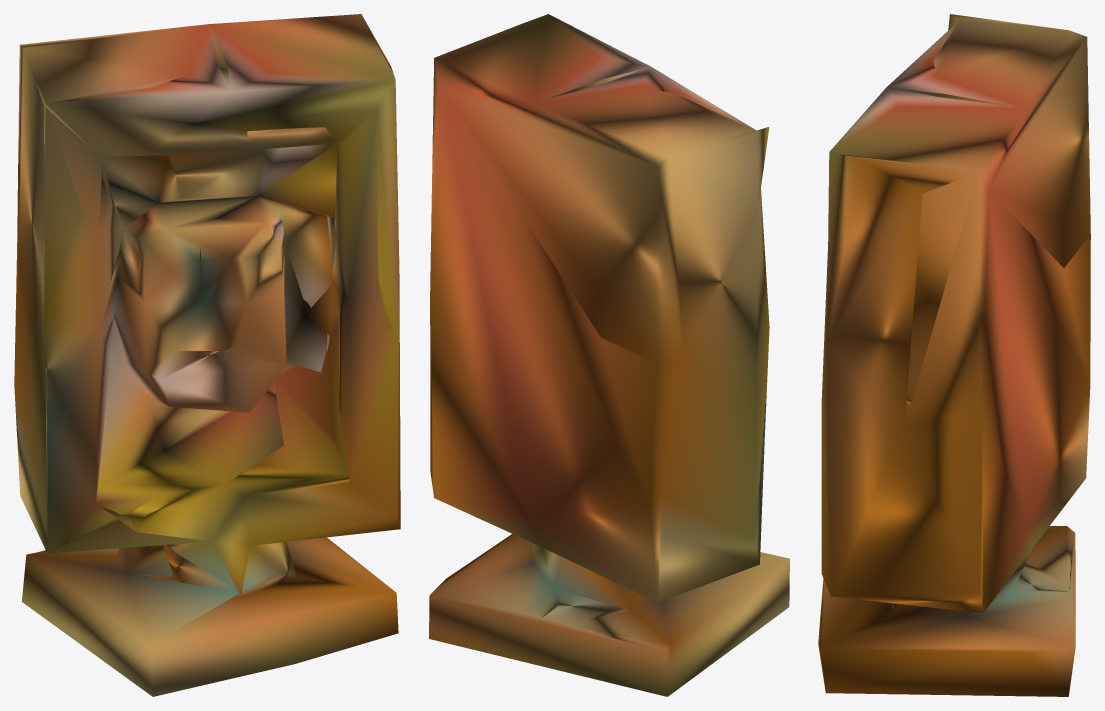
The model's file is gen3d-portrait-lod1.glb.
3 views of the same model, side by side, from view 1: azimuth 30°, elevation 25°; view 2: azimuth 150°, elevation 25°; view 3: azimuth 270°, elevation 25° (orthographic). The views are drawn at different scales.
Parts seen in each view (by area): view 1: part_0; view 2: part_0; view 3: part_0.
Boxes of the visible parts, left/top/right/bottom form: part_0: left=14, top=14, right=400, bottom=696; part_0: left=429, top=14, right=789, bottom=696; part_0: left=818, top=14, right=1090, bottom=696.
Bounding box in the file's own units: 0.6181 × 0.9866 × 0.4456.
